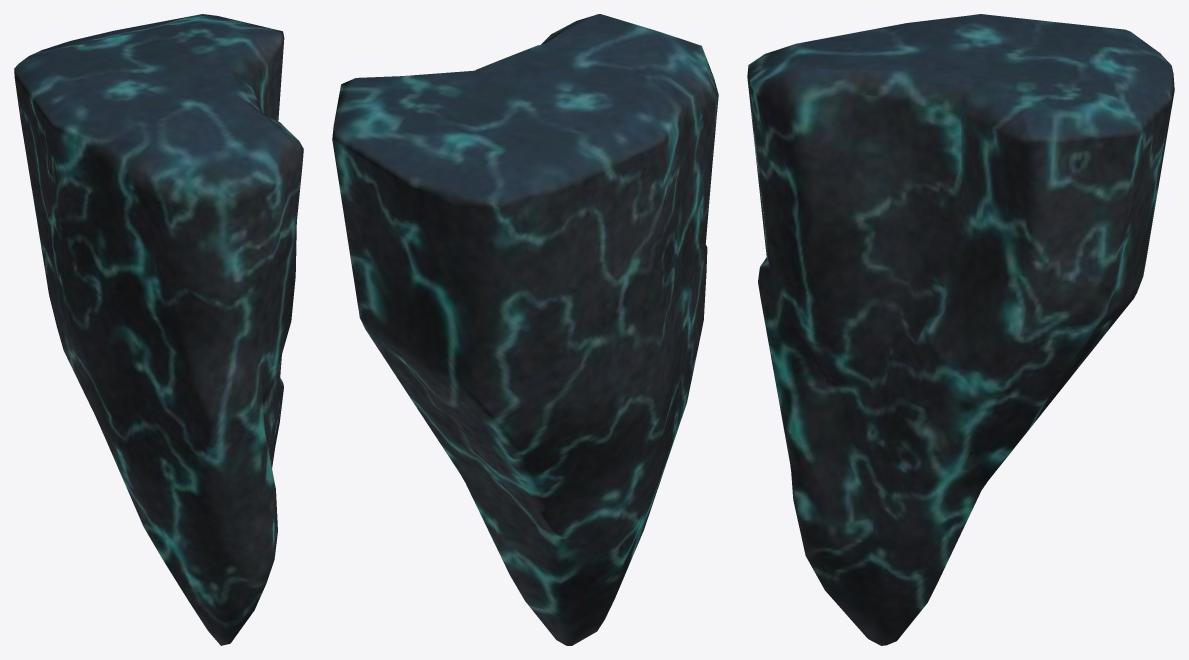
Rendered from sky_decor_cliff_a_soma_v35.glb.
The picture shows the model from 3 angles, left to right: view 1: azimuth 30°, elevation 25°; view 2: azimuth 150°, elevation 25°; view 3: azimuth 270°, elevation 25°; orthographic projection. The views are drawn at different scales.
Parts seen in each view (by area): view 1: caos_stl_cliffrock_01a; view 2: caos_stl_cliffrock_01a; view 3: caos_stl_cliffrock_01a.
Boxes of the visible parts, box(x1,y1,x2,y2) form: caos_stl_cliffrock_01a: box(14, 14, 303, 645); caos_stl_cliffrock_01a: box(332, 14, 718, 645); caos_stl_cliffrock_01a: box(747, 14, 1174, 645).
Size of the model in its own units: 5.21 by 10.27 by 6.8.
1 material, 1 textured.
